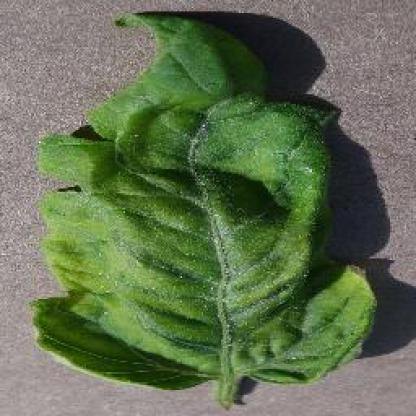bad leaf: (90, 215, 298, 389), (98, 9, 306, 182), (48, 151, 298, 291), (11, 262, 208, 386), (225, 258, 366, 398)
